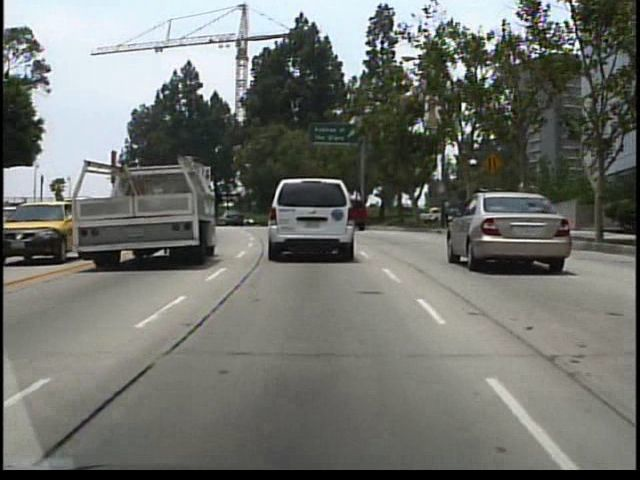person: (442, 194, 455, 228)
